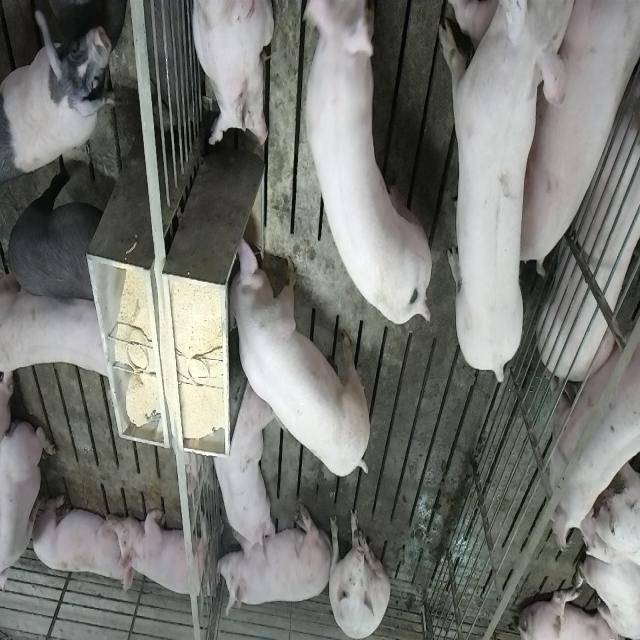Feeding: (220, 230, 368, 480)
Lateral_lying: (523, 1, 640, 272)
Sitting: (326, 506, 389, 638)
Standing: (438, 1, 570, 387), (298, 1, 434, 327), (550, 302, 640, 547), (2, 19, 116, 177), (3, 165, 112, 308), (3, 268, 118, 382)
Sternal_lying: (190, 0, 274, 150), (216, 505, 326, 615), (210, 382, 272, 566), (2, 416, 56, 608), (29, 491, 130, 588), (117, 506, 215, 604)
